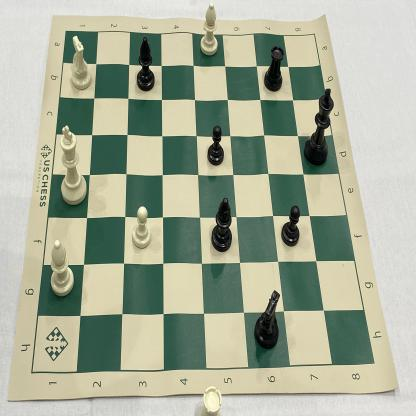black-bishop: (131, 29, 160, 96), (210, 193, 235, 256)
black-king: (300, 82, 337, 168)
black-knight: (252, 287, 287, 355)
black-pawn: (279, 202, 304, 250), (204, 121, 226, 169)
black-rook: (263, 39, 288, 97)
white-bishop: (46, 235, 76, 299), (197, 0, 222, 58)
white-king: (55, 121, 92, 209)
white-knight: (66, 27, 95, 95)
white-pawn: (130, 201, 154, 252)
